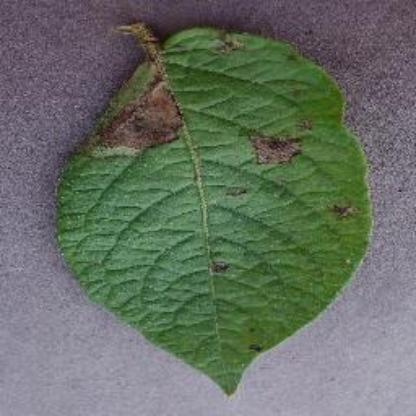Late-Blight: (53, 14, 385, 398)
